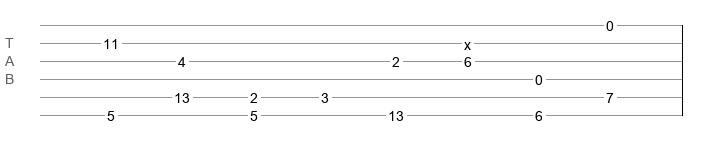0: (535, 72, 543, 82), (606, 18, 614, 28)
11: (103, 36, 119, 46)
13: (174, 90, 190, 100), (388, 108, 404, 118)
2: (250, 90, 258, 100), (392, 54, 400, 64)
3: (321, 90, 329, 100)
4: (178, 54, 186, 64)
5: (107, 108, 115, 118), (250, 108, 258, 118)
6: (464, 54, 472, 64), (535, 108, 543, 118)
7: (606, 90, 614, 100)
x: (464, 37, 471, 45)
